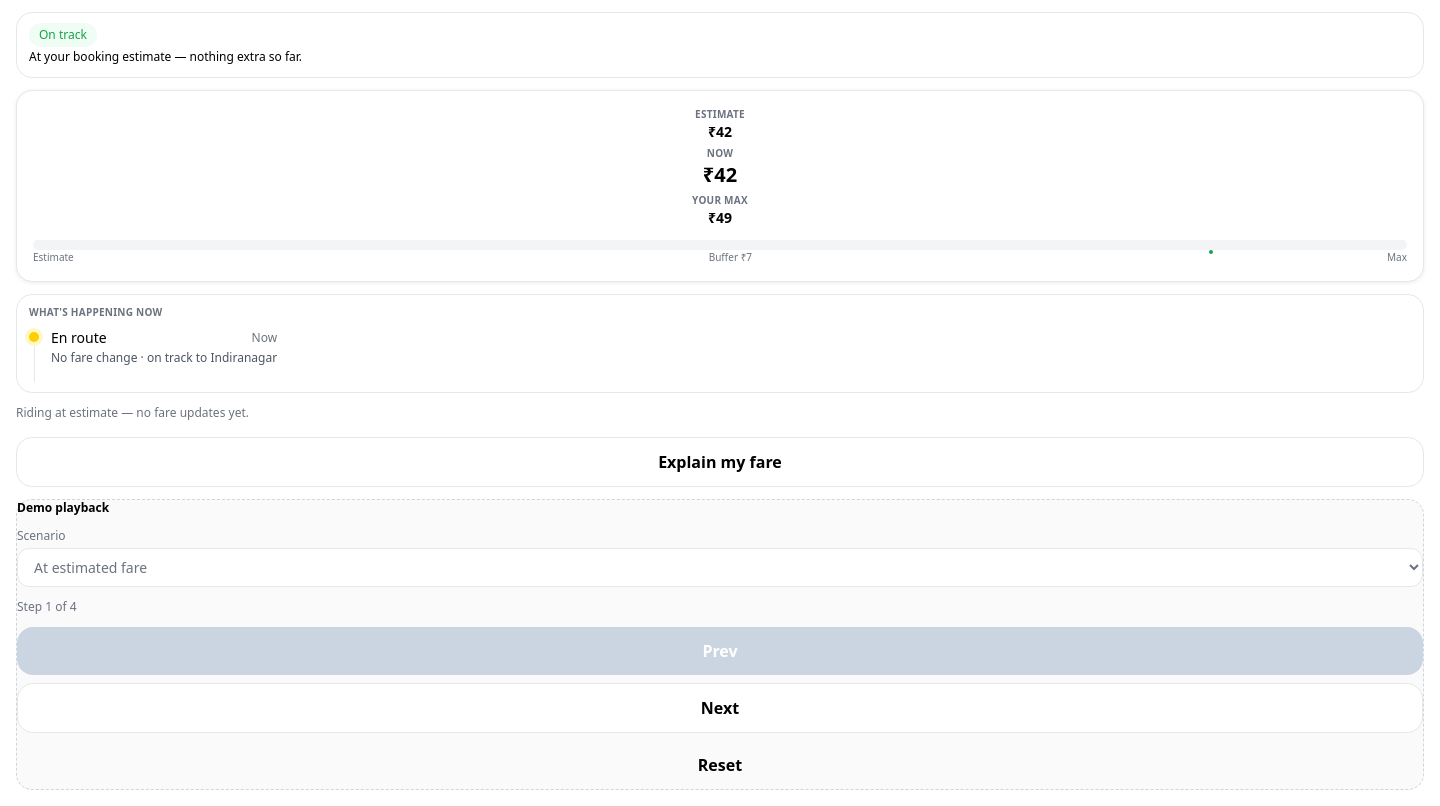
Test: live ride scenario integration › keeps fare meter and timeline in sync when stepping through buffer zone
The width and height of the screenshot is (1440, 806).
(page scrolled)
Expected: the element with test id "fare-trust-indicator" is shown, [16, 12, 1424, 78]
Step 1. Select "Entered buffer zone" in the dropdown with test id "playback-scenario-select" → point(720, 567), box [17, 548, 1423, 587]
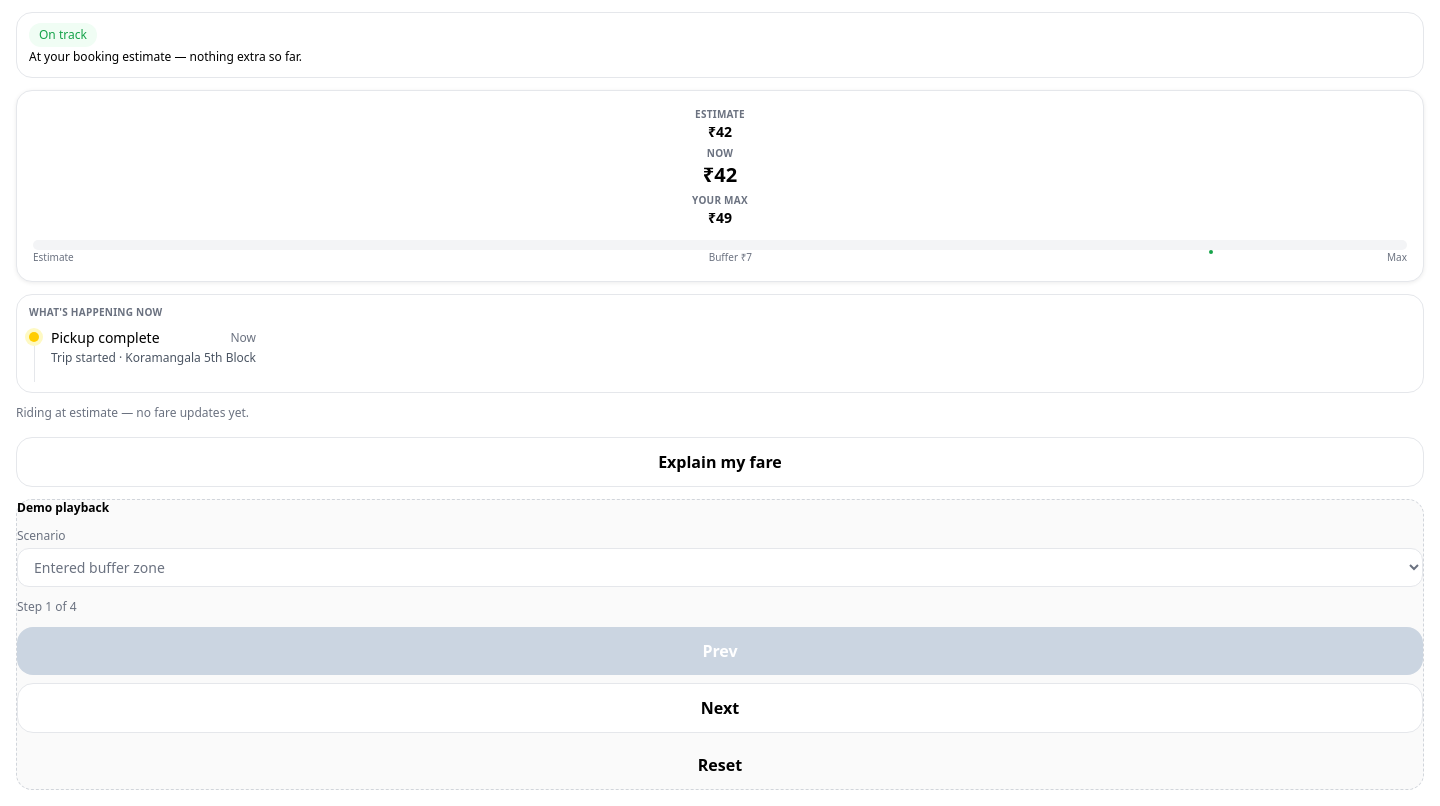
Expected: the element with test id "fare-trust-indicator" shows "On track", [39, 26, 87, 43]
Expected: the element with test id "fare-meter-current" shows "₹42", [703, 161, 737, 188]
Step 2. Click the button "Next" → point(720, 708), box [17, 683, 1423, 733]
(page scrolled)
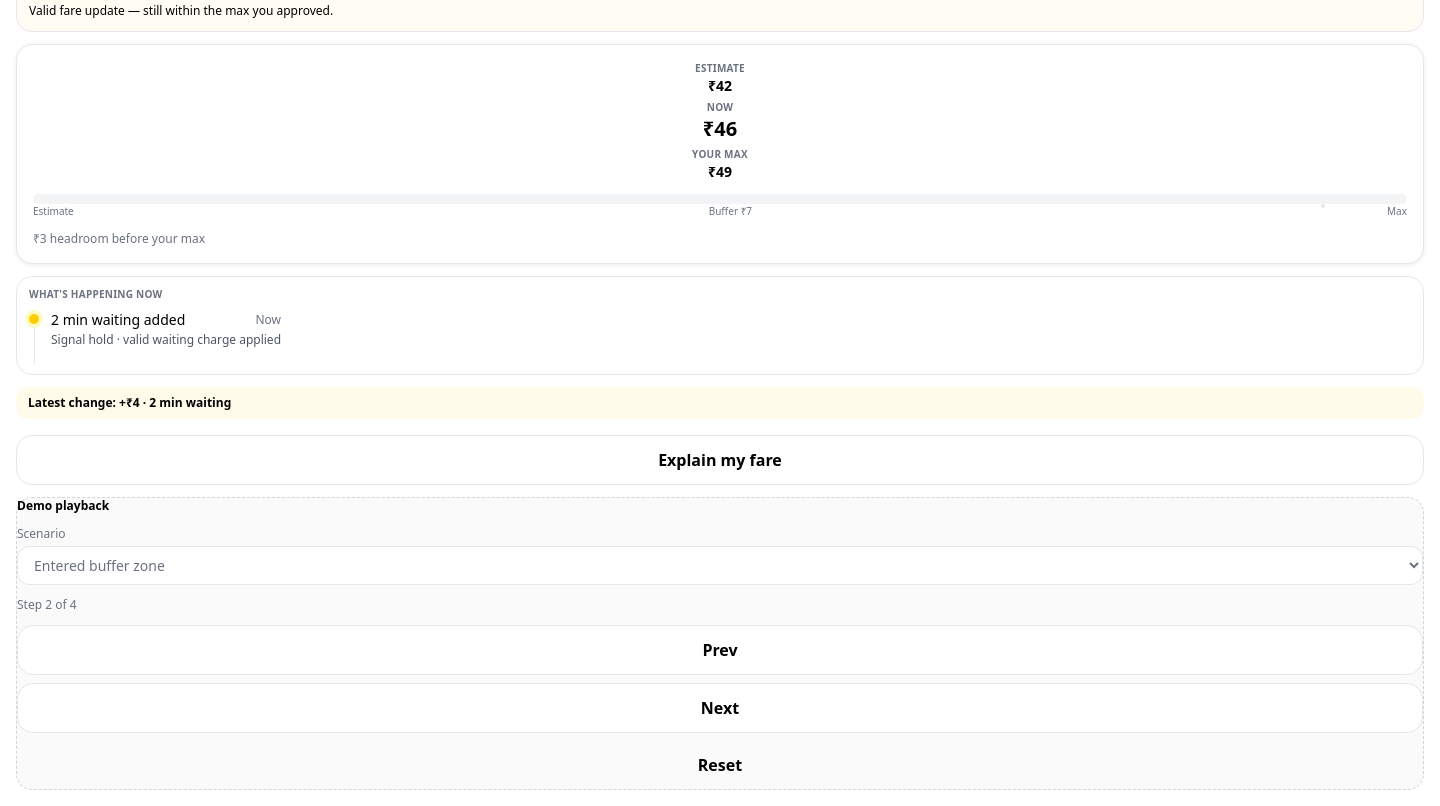
Now the element with test id "fare-meter-current" shows "₹46", box [703, 115, 737, 142]
Now the element with test id "live-ride-event-timeline" shows "2 min waiting added", box [51, 310, 185, 329]
Now the text "Latest change: +₹4 · 2 min waiting" is shown, box [16, 387, 1424, 419]
